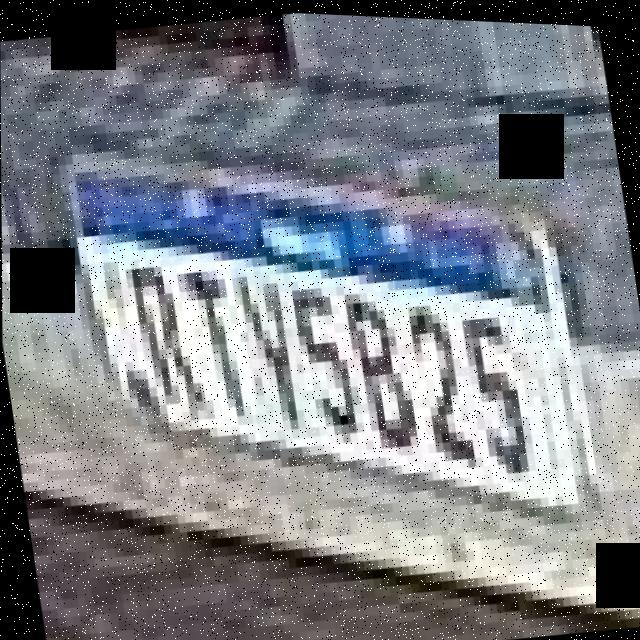5: (455, 294, 541, 482), (282, 272, 367, 447)
B: (343, 277, 425, 456)
R: (124, 255, 208, 433)
T: (178, 252, 257, 429)
Y: (236, 265, 313, 442)
